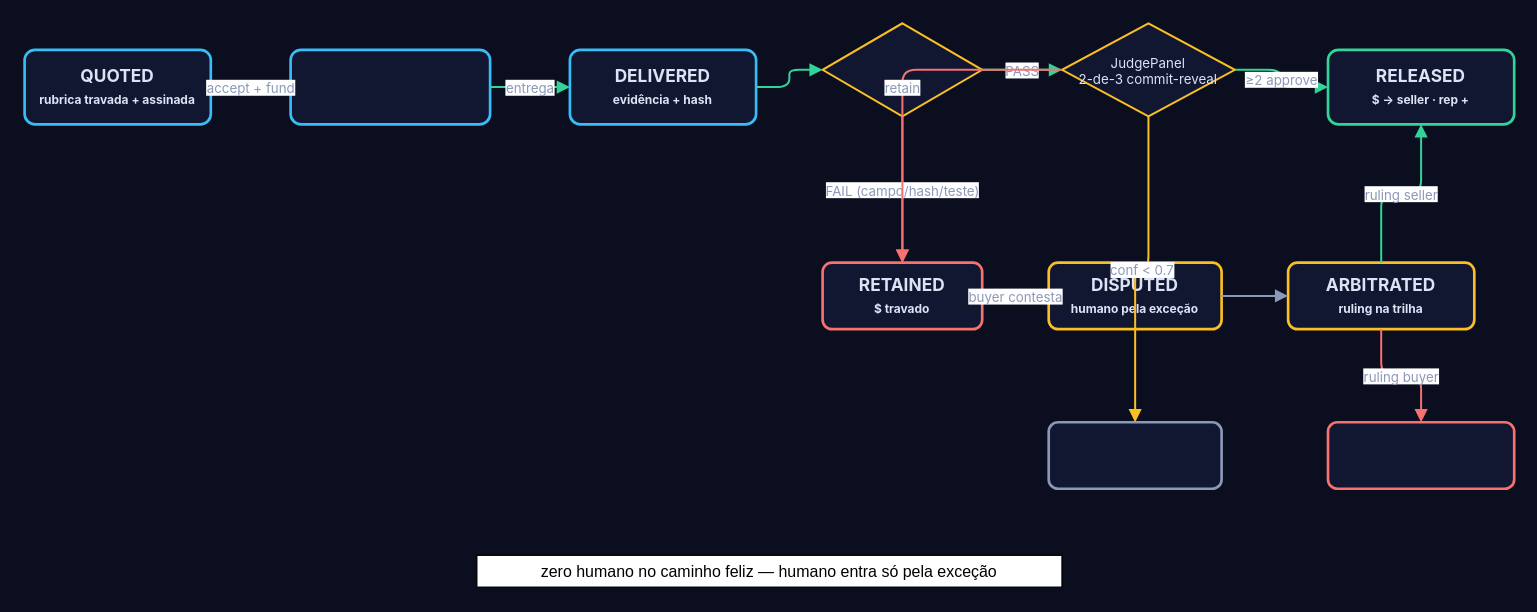
Image size: 1537x612. Some labels were removed from this diagram. Here are the shapes that lost their labels. From the top down, the centre of each, then its label:
the point at 390,86: FUNDED policy passou · $ no cofre
the point at 902,69: Stage A determinístico (custo zero)
the point at 1134,454: ESCALATE conf baixa → humano
the point at 1420,454: REFUNDED $ → buyer · rep −
